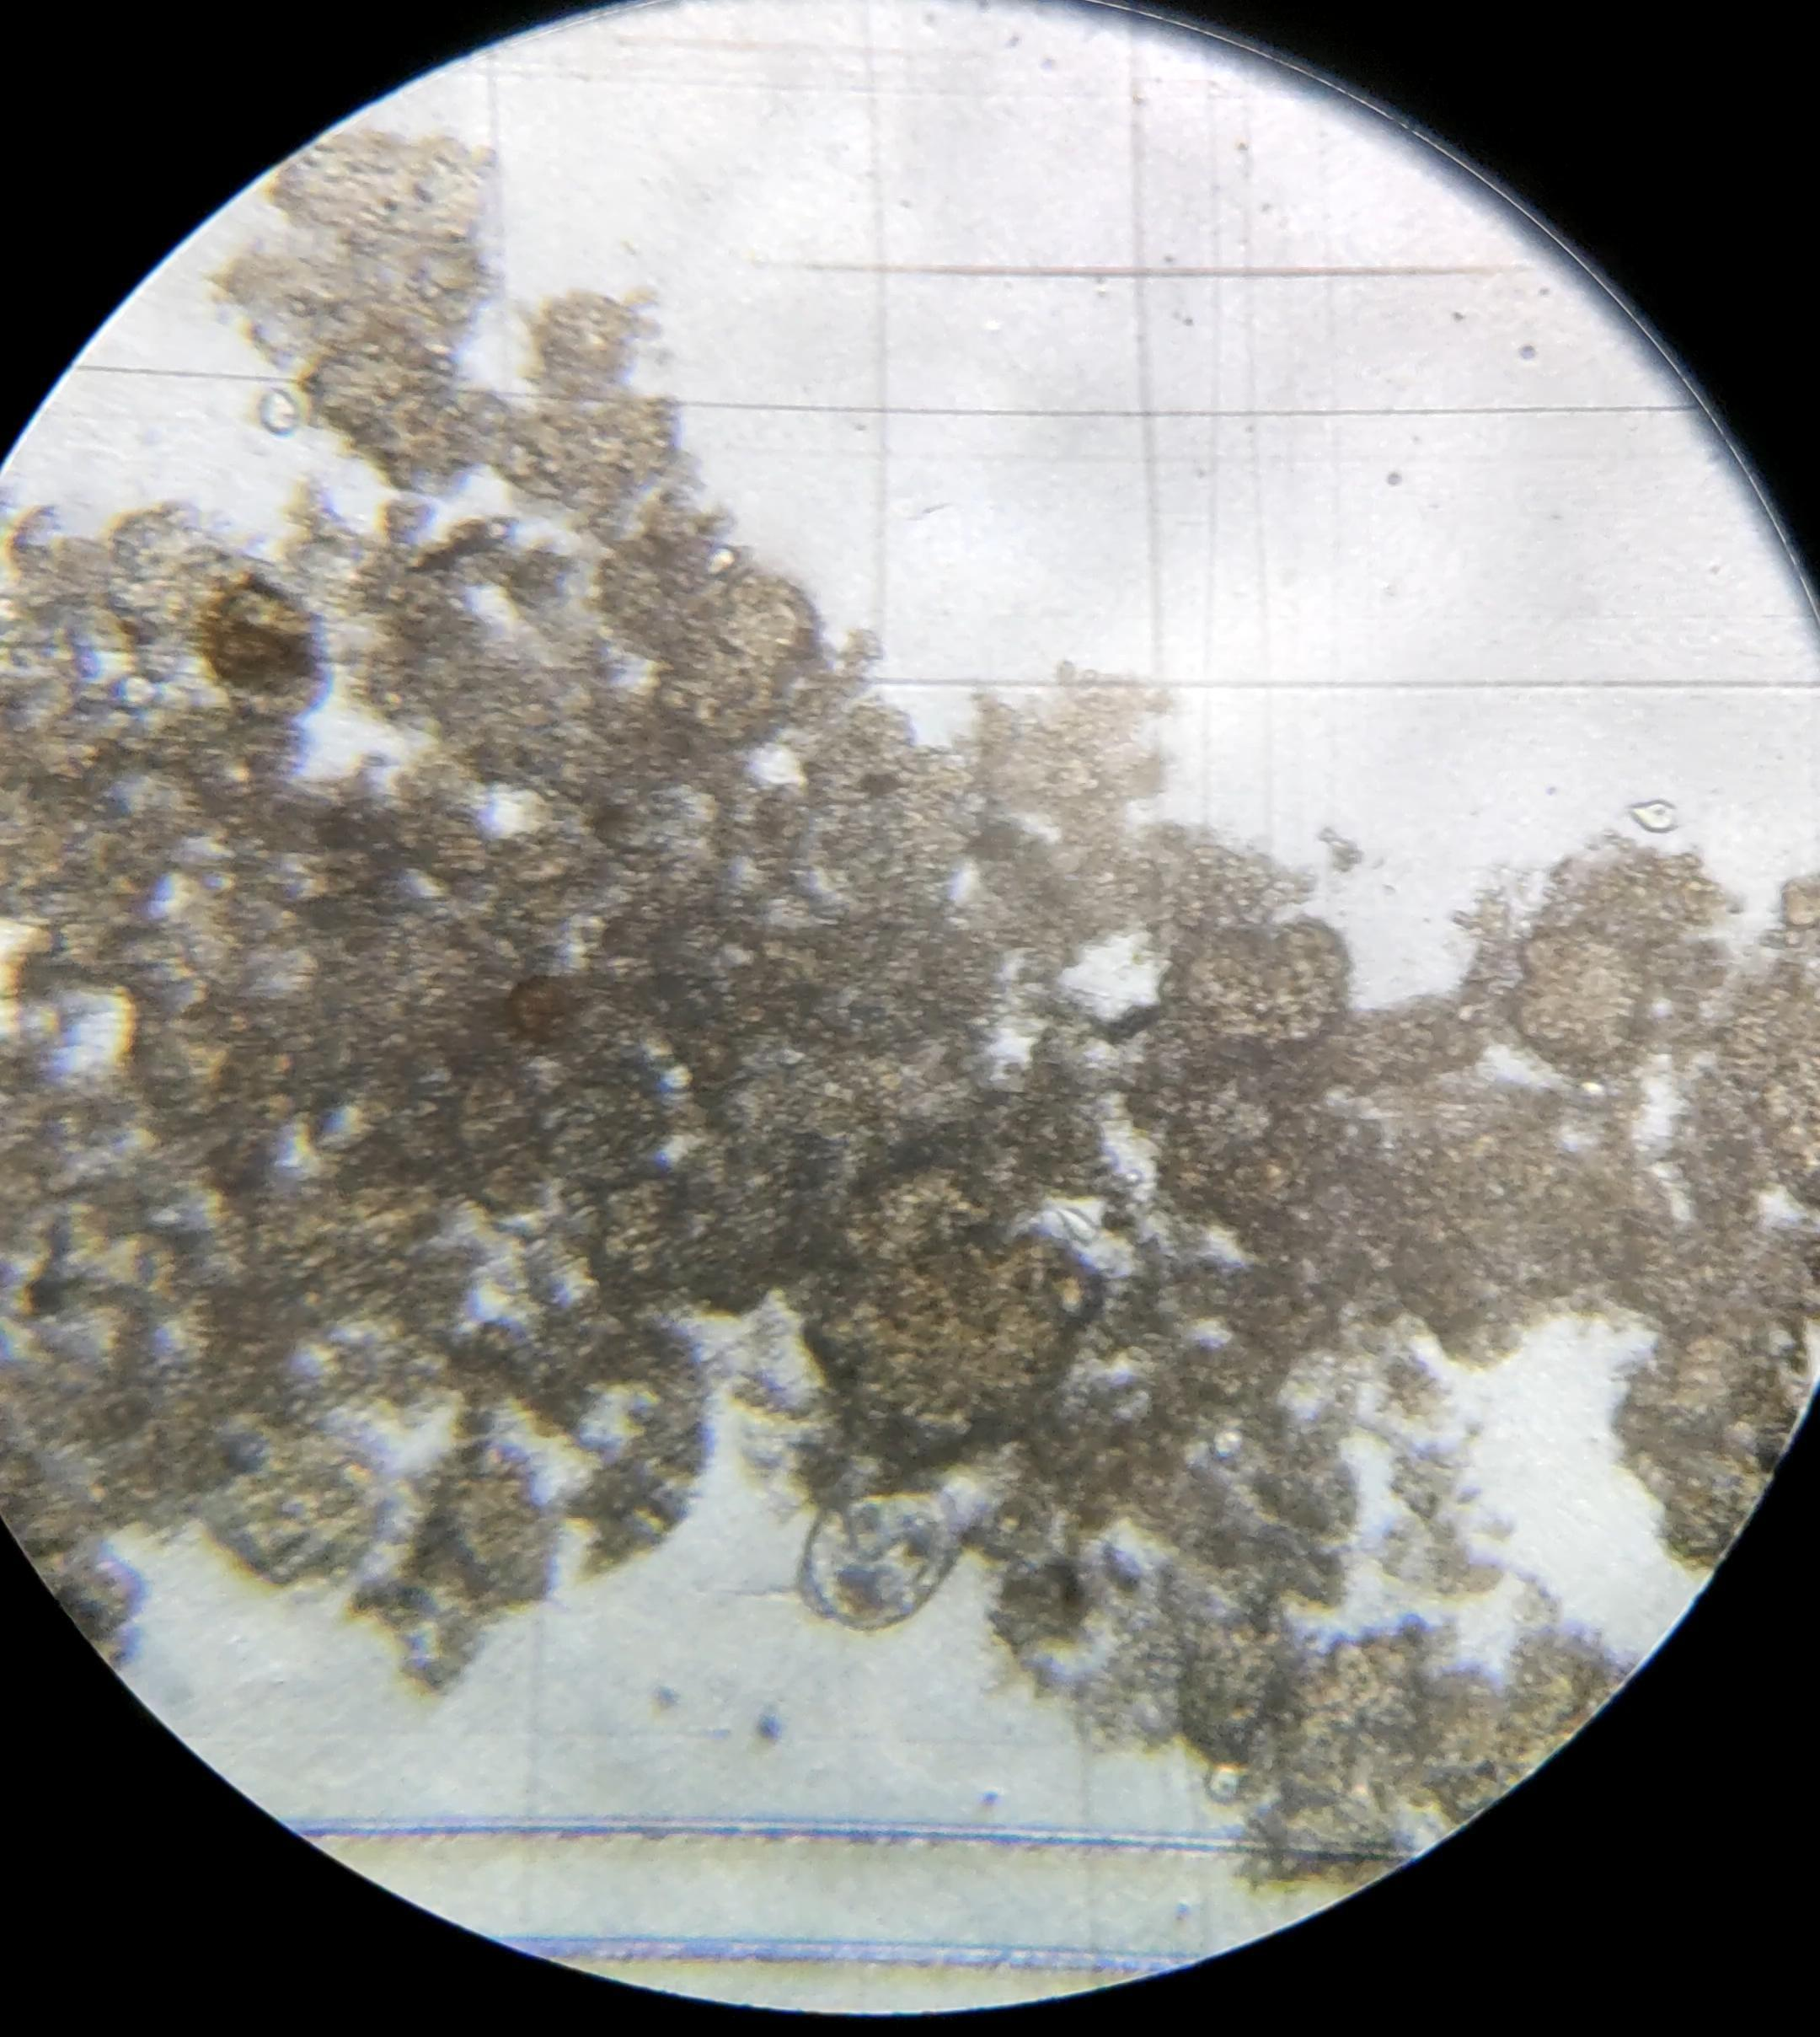Mo: (706, 1476, 994, 1629)
